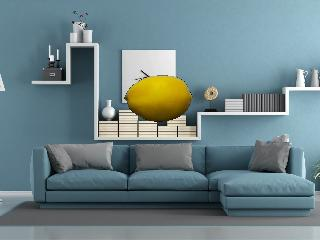lemon: (124, 76, 192, 121)
